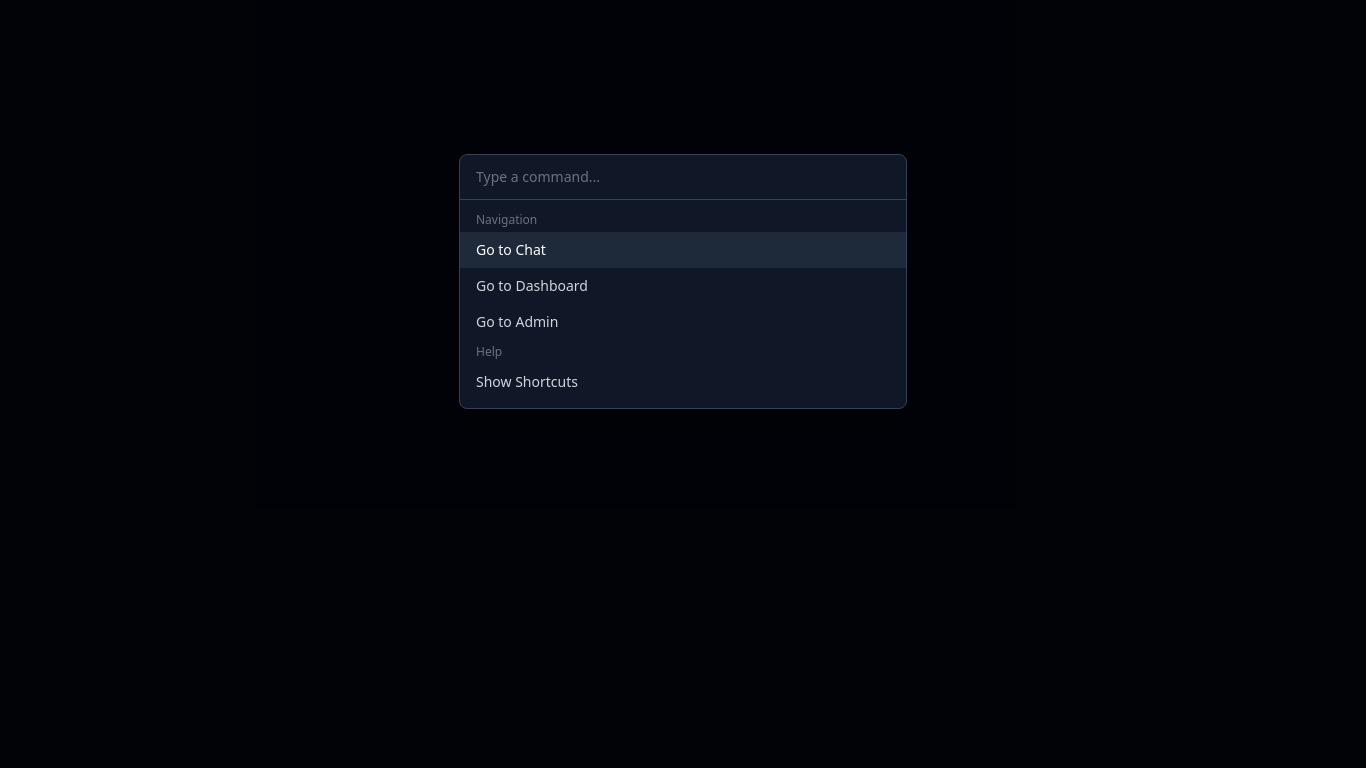
Test: CommandPalette › filters commands by search text
The image size is (1366, 768).
Type "chat" into the field with placeholder "Type a command..." at (683, 177), box [460, 155, 906, 200]
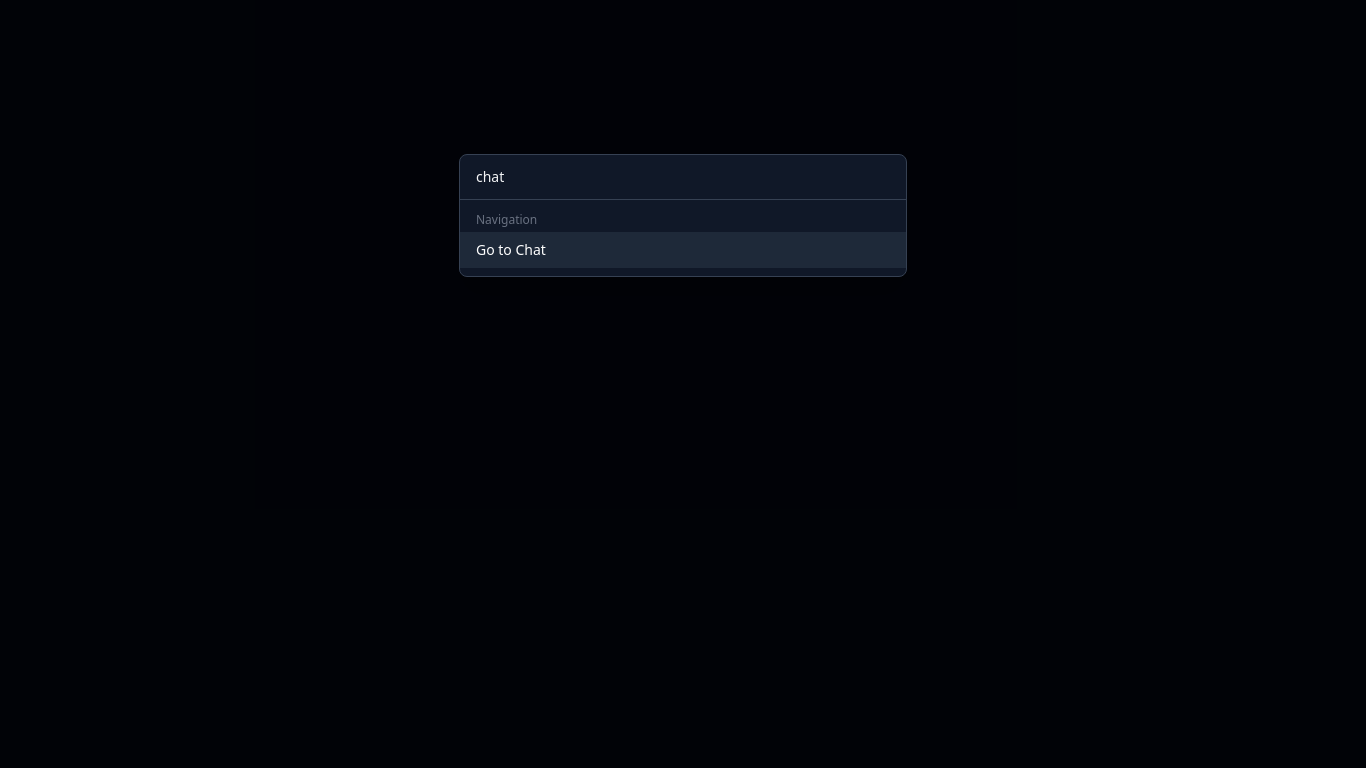
Expected: the text "Go to Chat" is shown, [476, 240, 546, 260]
Expected: the button "Go to Dashboard" is gone
